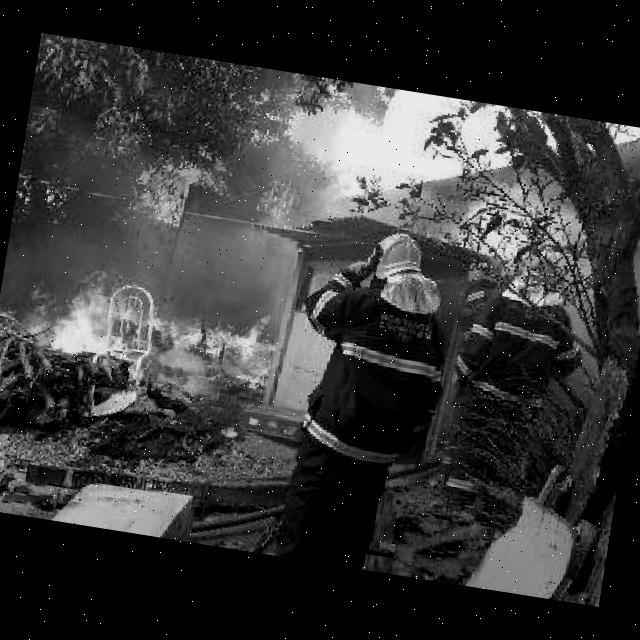Fire: (19, 257, 179, 390), (168, 298, 285, 394)
